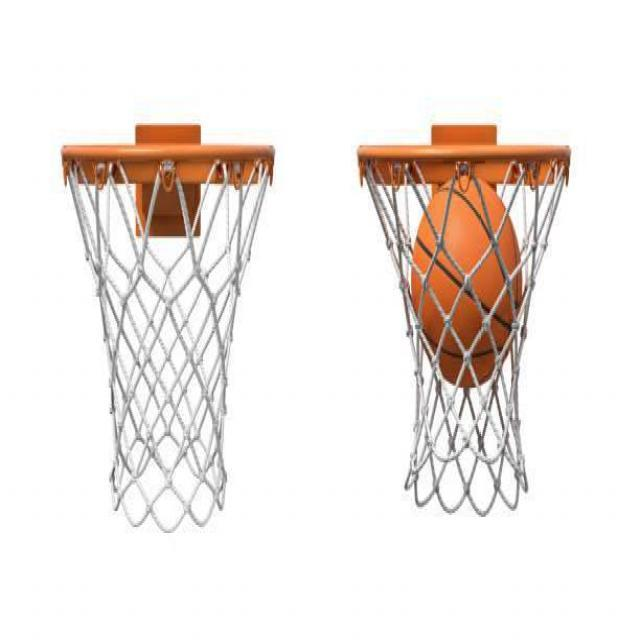Basketball: (412, 174, 522, 386)
hoop: (61, 146, 276, 534), (358, 143, 571, 518)
